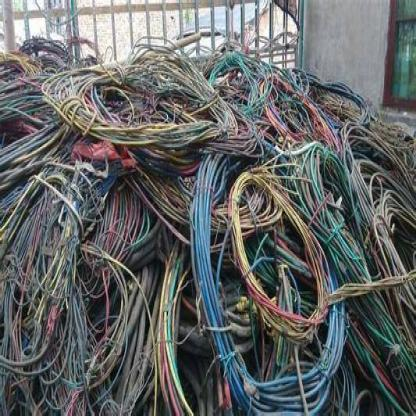wires: (1, 28, 415, 415)
